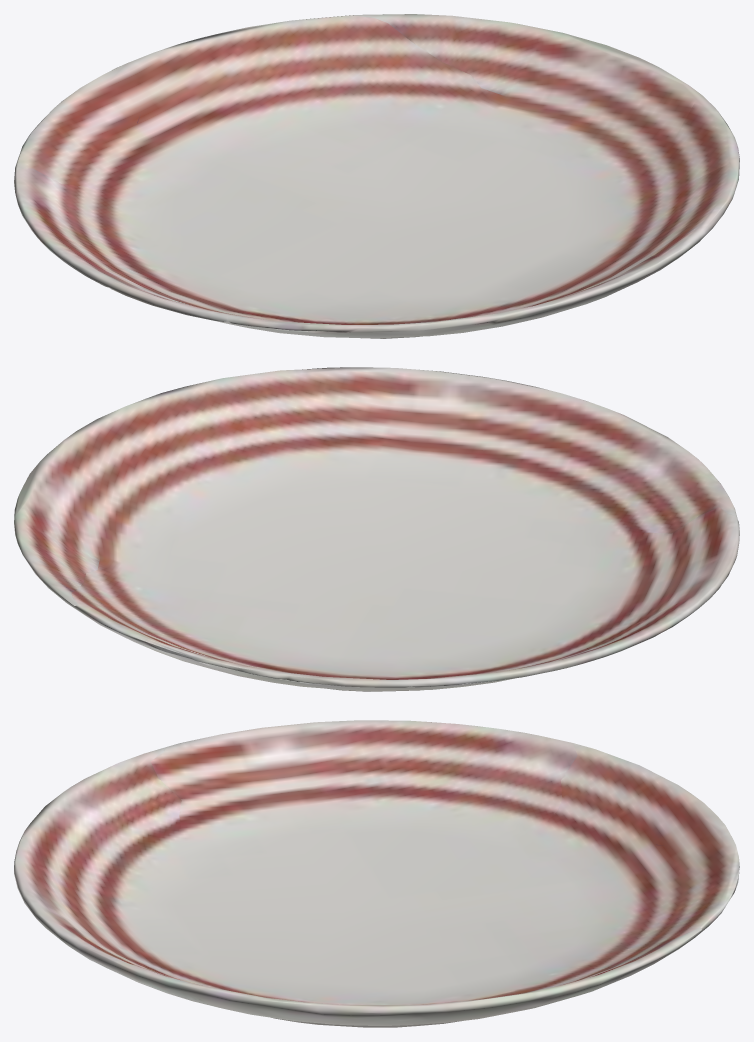
File: Threshold_Bistro_Ceramic_Dinner_Plate_Ruby_Ring-high.glb
3 views of the same model, one above another, from view 1: azimuth 30°, elevation 25°; view 2: azimuth 150°, elevation 25°; view 3: azimuth 270°, elevation 25° (orthographic).
Parts seen in each view (by area): view 1: Threshold_Bistro_Ceramic_Dinner_Plate_Ruby_Ring; view 2: Threshold_Bistro_Ceramic_Dinner_Plate_Ruby_Ring; view 3: Threshold_Bistro_Ceramic_Dinner_Plate_Ruby_Ring.
Part boxes in pixels (<box>): Threshold_Bistro_Ceramic_Dinner_Plate_Ruby_Ring: <box>14,14,739,338</box>; Threshold_Bistro_Ceramic_Dinner_Plate_Ruby_Ring: <box>14,367,739,691</box>; Threshold_Bistro_Ceramic_Dinner_Plate_Ruby_Ring: <box>14,720,739,1027</box>.
Size of the model in its own units: 0.2745 by 0.0333 by 0.274.
Materials: 1 (1 with a texture image).
